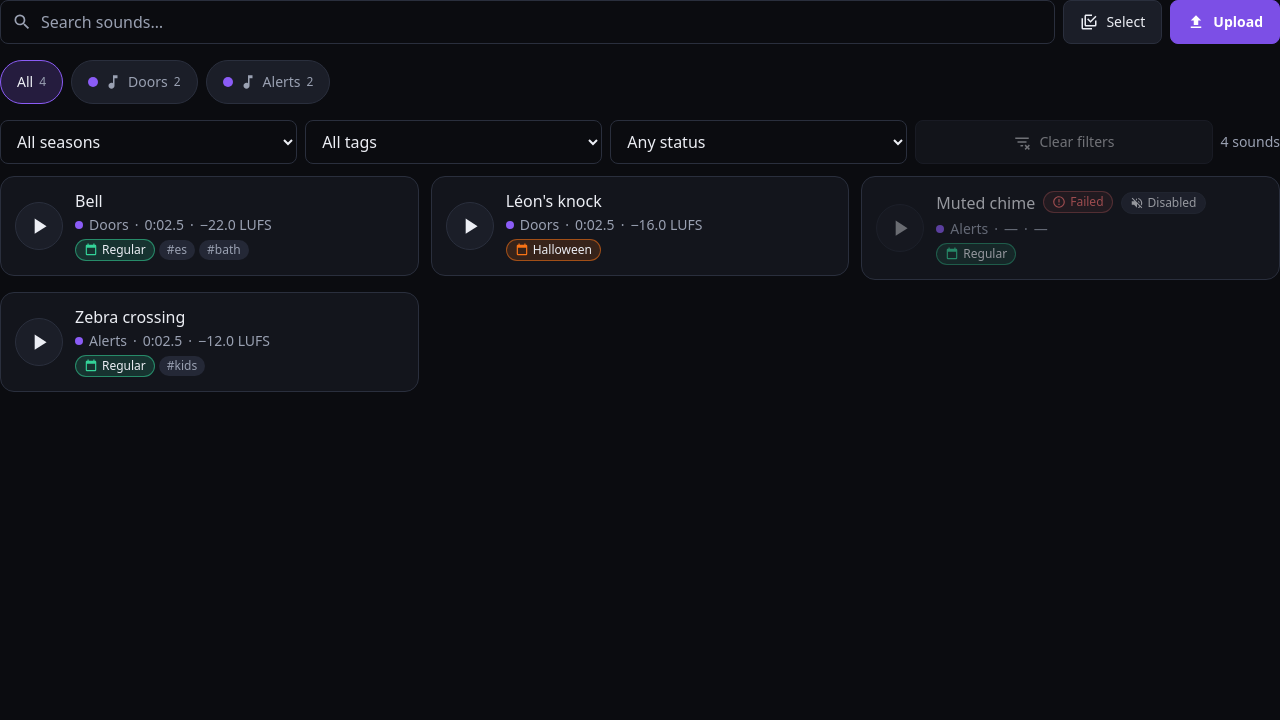
Scenario: selection › enters selection mode from the Select button and counts picks
The image size is (1280, 720).
What coordinates should you click on to do the following:
click the button with test id "select-toggle"
I would click on:
 (1113, 22)
Its box is [1063, 0, 1162, 44].
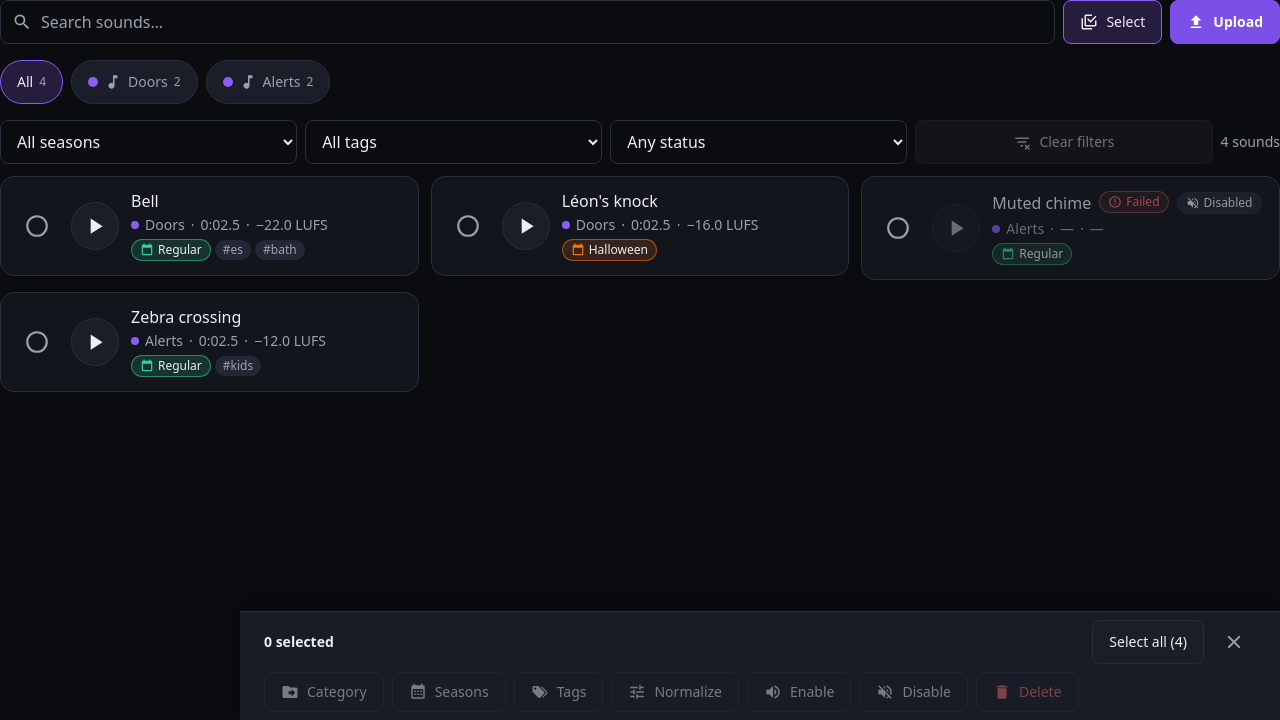
What coordinates should you click on to do the following:
click the 1st checkbox with test id "select"
I would click on:
 (37, 226)
Its box is [15, 204, 59, 248].
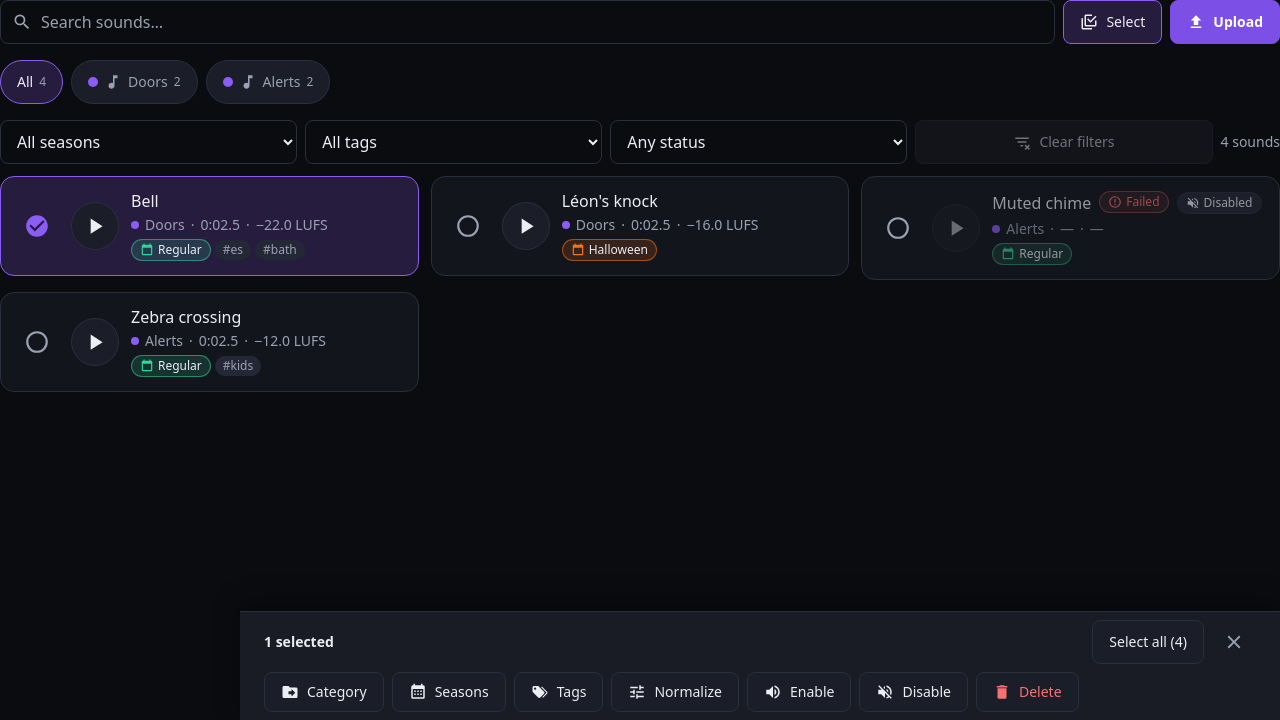
What coordinates should you click on to do the following:
click the 4th checkbox with test id "select"
I would click on:
 (37, 342)
Its box is [15, 320, 59, 364].
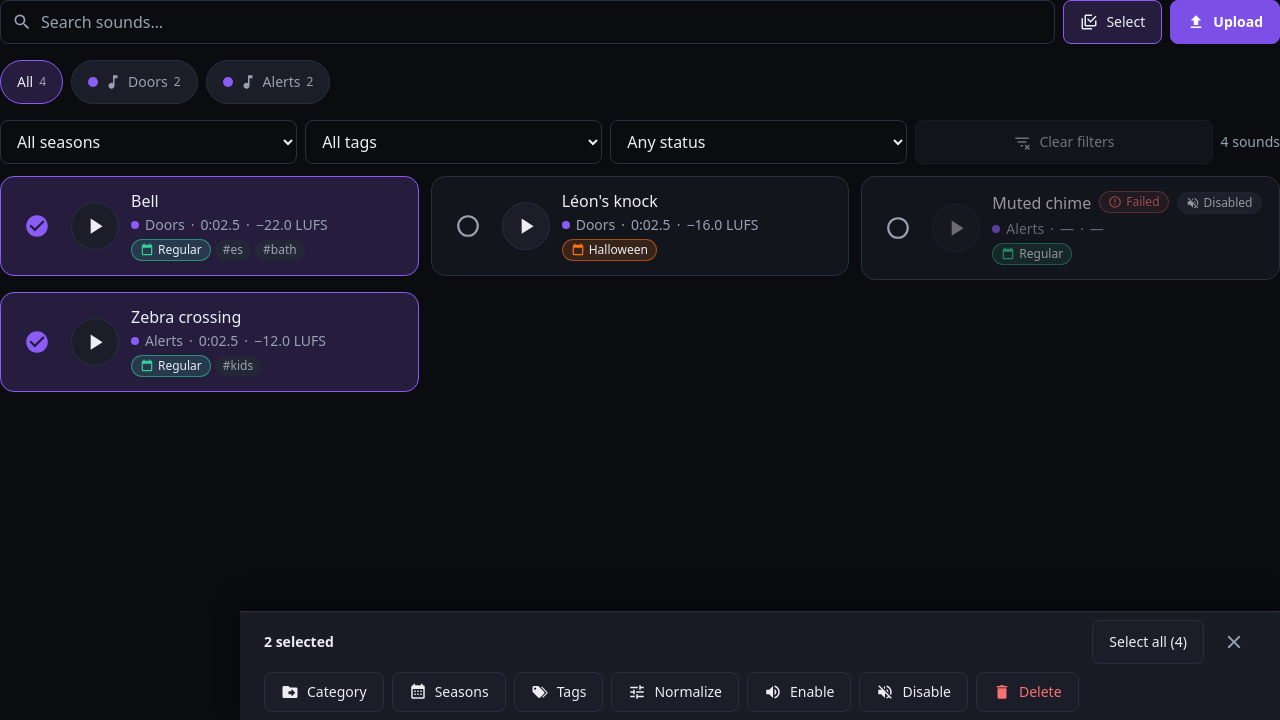
Expected: the text with test id "count" reads "2 selected", [264, 632, 334, 651]
